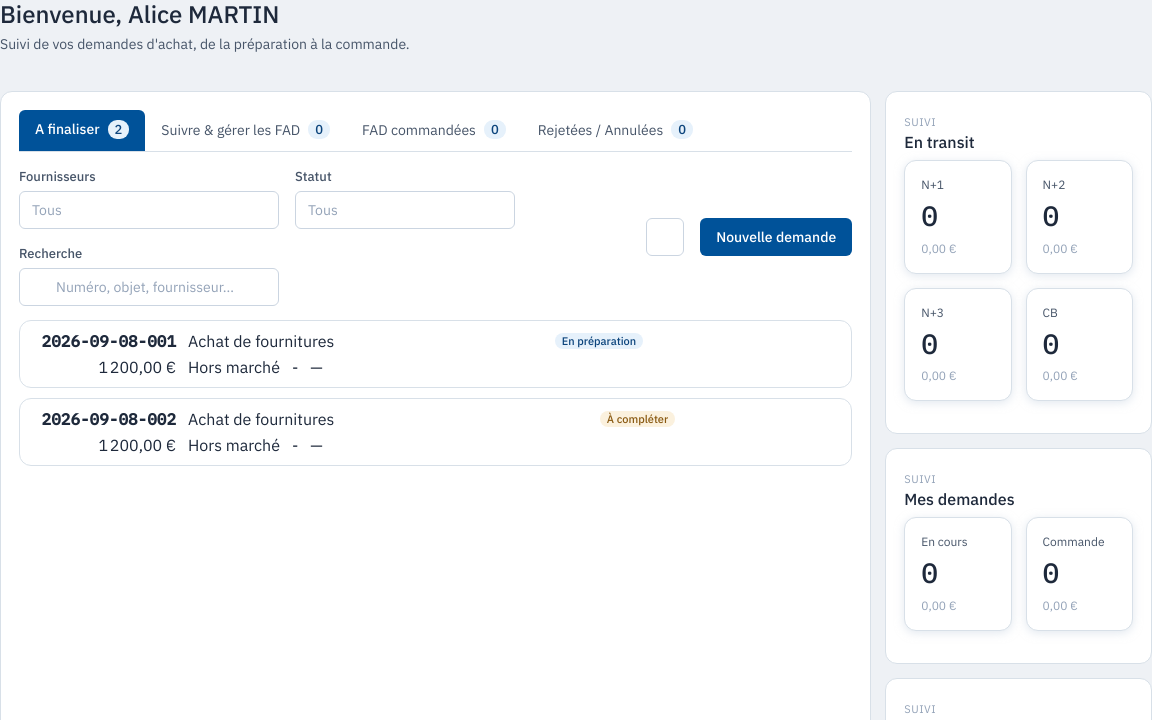
Test case: Home — "A finaliser" (actions de ligne) › "Nouvelle demande" crée un brouillon pour le connecté et ouvre la modale en édition
The width and height of the screenshot is (1152, 720).
What coordinates should you click on to do the following:
click the button "Nouvelle demande"
I would click on:
 (776, 237)
Its box is [700,218,852,256].
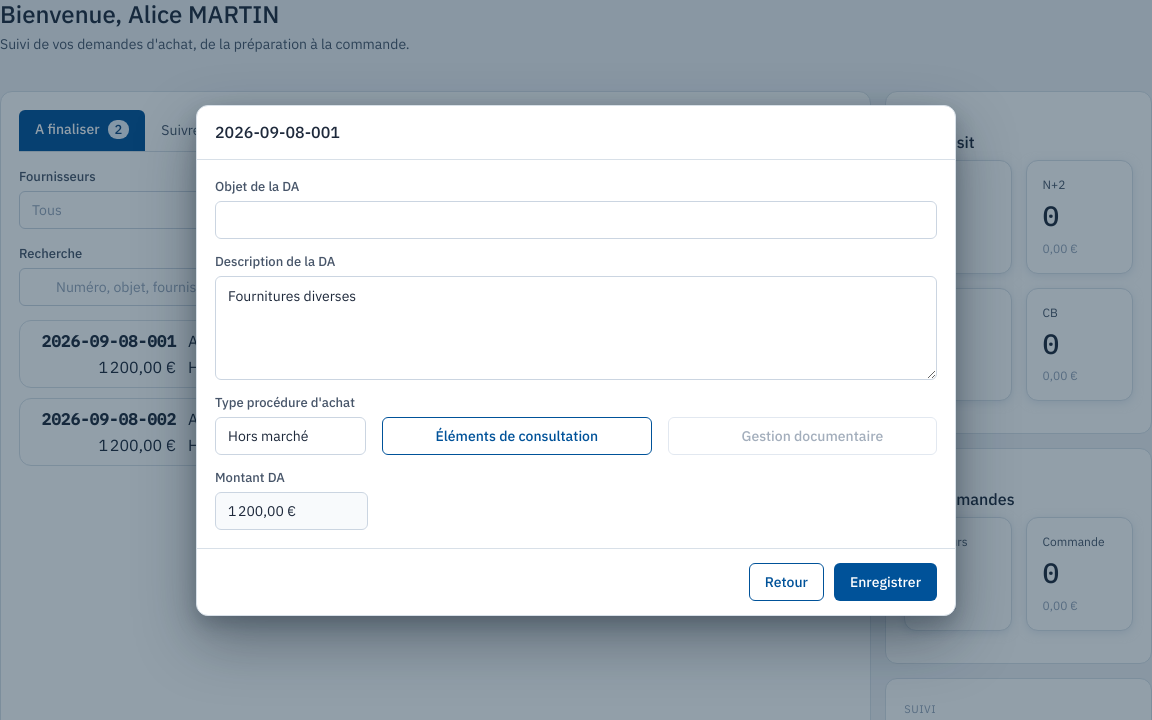
Check: the button "Enregistrer" is shown, box [834,562,937,600]
